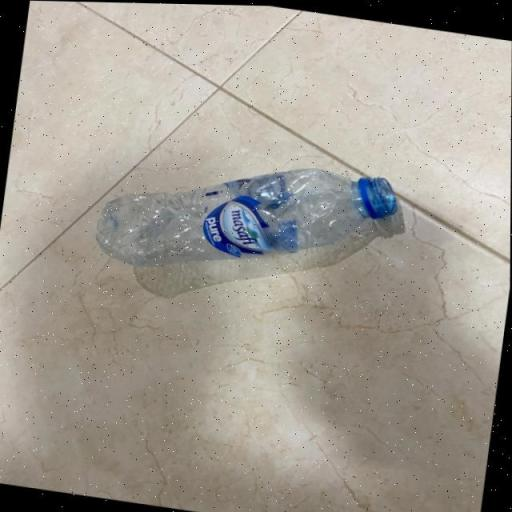plastic: (76, 128, 420, 315)
